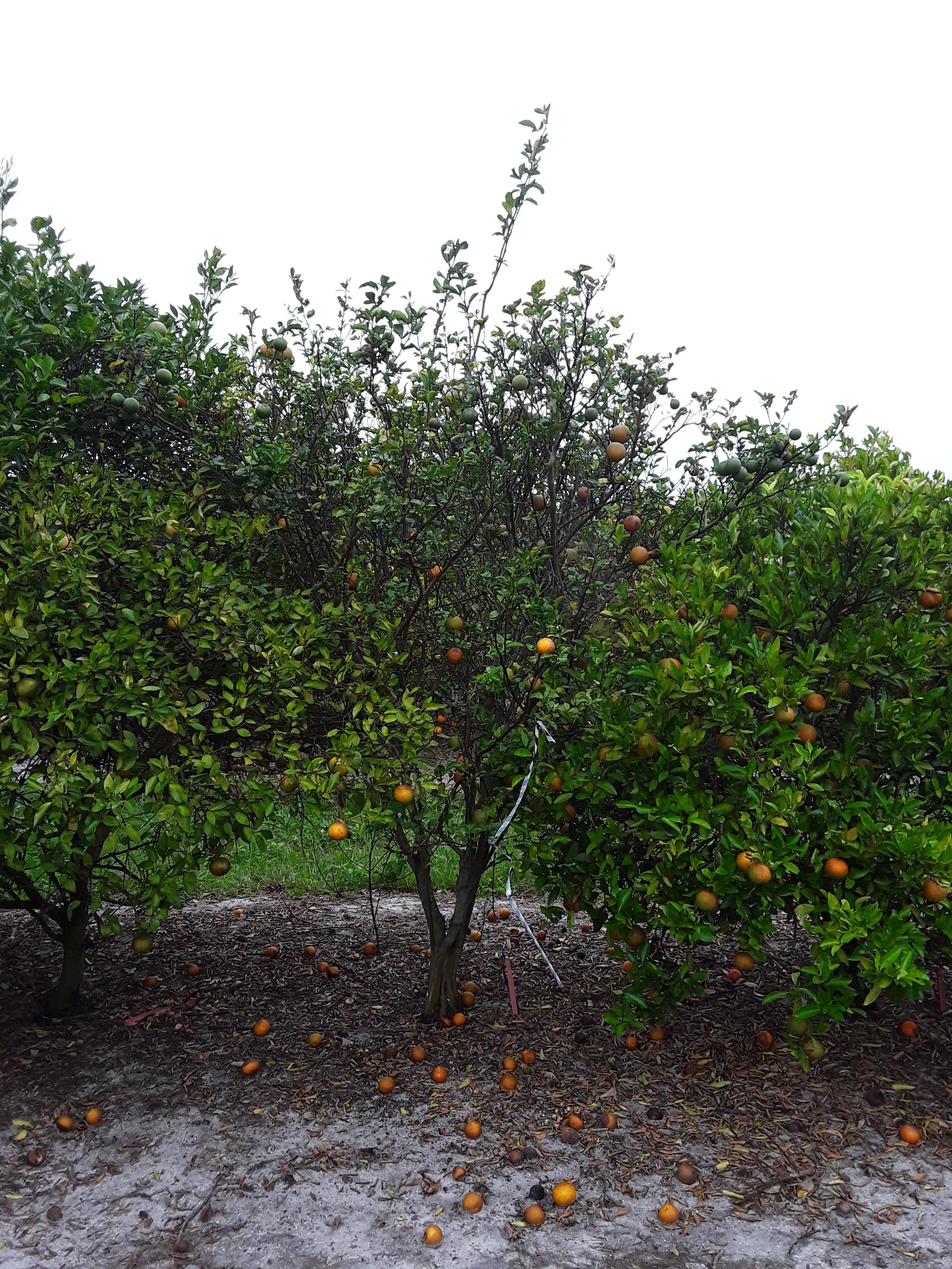fruit_on_ground: (819, 663, 859, 701), (651, 649, 687, 683), (714, 724, 750, 755), (670, 594, 701, 625), (914, 582, 946, 611), (799, 686, 830, 715), (766, 700, 797, 729), (818, 855, 851, 882), (919, 874, 948, 904), (624, 921, 652, 952), (553, 799, 586, 825), (782, 1010, 812, 1038), (558, 886, 588, 913), (173, 383, 204, 409), (692, 889, 720, 917), (276, 769, 303, 798), (162, 608, 191, 634), (728, 949, 757, 974), (324, 752, 354, 776), (540, 767, 567, 793), (714, 598, 740, 625), (791, 722, 819, 746), (800, 1038, 829, 1061), (209, 851, 234, 877), (746, 860, 771, 886), (141, 318, 168, 341), (158, 514, 182, 539), (735, 847, 760, 871), (390, 781, 416, 804), (607, 421, 633, 444), (324, 820, 351, 842), (601, 440, 626, 463), (130, 932, 155, 955), (365, 457, 391, 479), (626, 545, 651, 567), (426, 561, 448, 585), (344, 567, 365, 591), (272, 343, 295, 364), (152, 365, 173, 387), (509, 372, 530, 393), (458, 405, 480, 425), (534, 635, 556, 655), (105, 390, 126, 409), (831, 467, 849, 489), (122, 396, 142, 415), (253, 401, 273, 420), (528, 493, 548, 512), (723, 454, 742, 474), (575, 484, 594, 503), (624, 514, 643, 532), (444, 645, 463, 663), (256, 340, 276, 357), (581, 406, 601, 423), (446, 615, 464, 633), (455, 755, 474, 772), (788, 424, 805, 442), (769, 437, 787, 454), (742, 457, 761, 473), (716, 460, 732, 478), (803, 452, 821, 468), (733, 465, 748, 484), (768, 455, 783, 474), (272, 335, 287, 353), (427, 415, 443, 430), (450, 734, 464, 751), (434, 710, 450, 724), (668, 397, 682, 411), (780, 449, 795, 461), (430, 723, 442, 734)
fruit_on_tree: (549, 1180, 579, 1208), (898, 1120, 924, 1146), (751, 1026, 776, 1050), (656, 1200, 679, 1226), (523, 1202, 546, 1227), (419, 1223, 445, 1245), (460, 1191, 482, 1214), (895, 1017, 920, 1037), (82, 1105, 105, 1126), (238, 1057, 262, 1077), (374, 1075, 396, 1096), (674, 1162, 696, 1183), (406, 1044, 429, 1064), (598, 1109, 619, 1130), (497, 1072, 519, 1092), (564, 1110, 586, 1130), (251, 1018, 271, 1039), (462, 1120, 484, 1139), (431, 1064, 449, 1085), (457, 990, 477, 1008), (622, 1034, 642, 1052), (449, 1010, 467, 1029), (55, 1115, 75, 1131), (183, 960, 201, 977), (306, 1031, 324, 1048), (520, 1047, 538, 1064), (499, 1056, 519, 1071), (361, 940, 378, 956), (461, 979, 478, 995), (496, 905, 513, 920), (619, 958, 636, 973), (263, 944, 279, 958), (485, 909, 500, 923), (468, 928, 484, 941), (726, 969, 742, 982), (534, 926, 547, 941), (315, 960, 331, 972), (229, 906, 245, 918), (303, 945, 317, 958), (326, 965, 342, 976), (580, 921, 593, 933)
